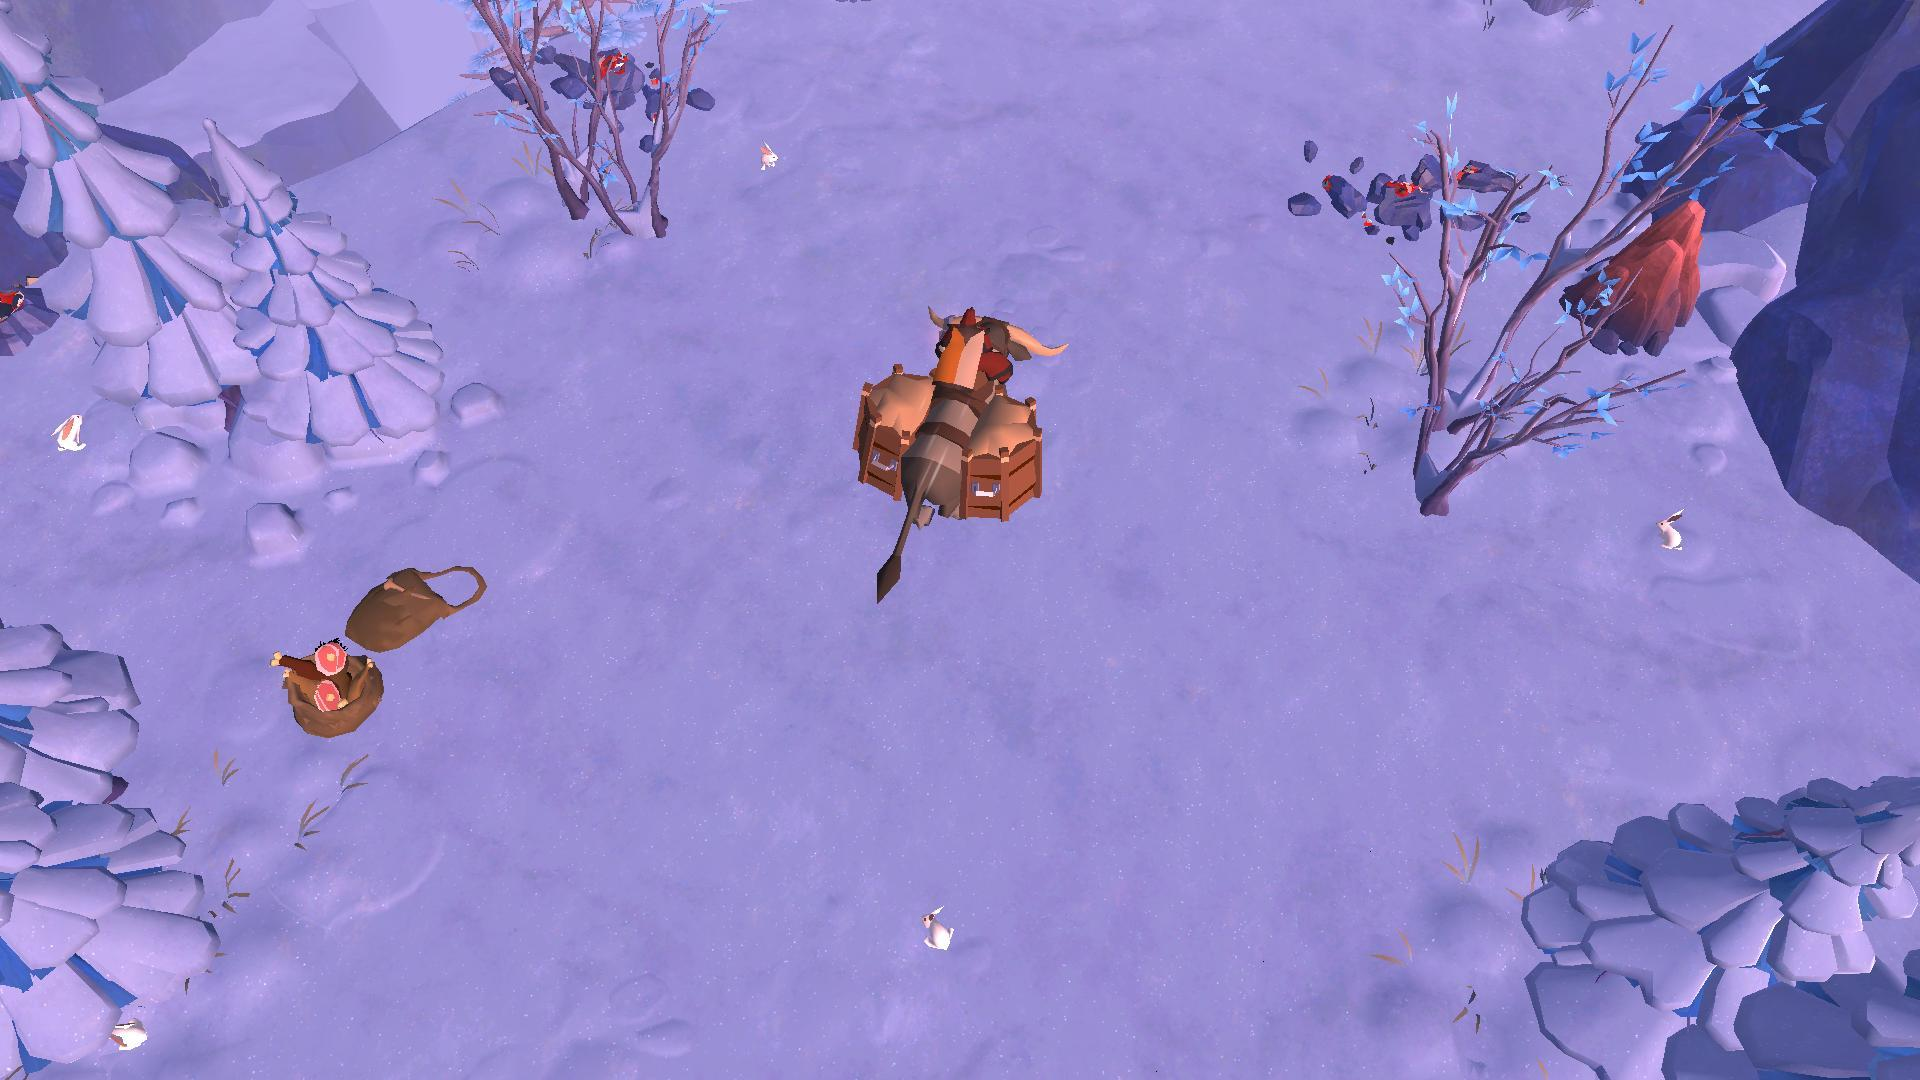rock_t5: (1569, 199, 1701, 351)
